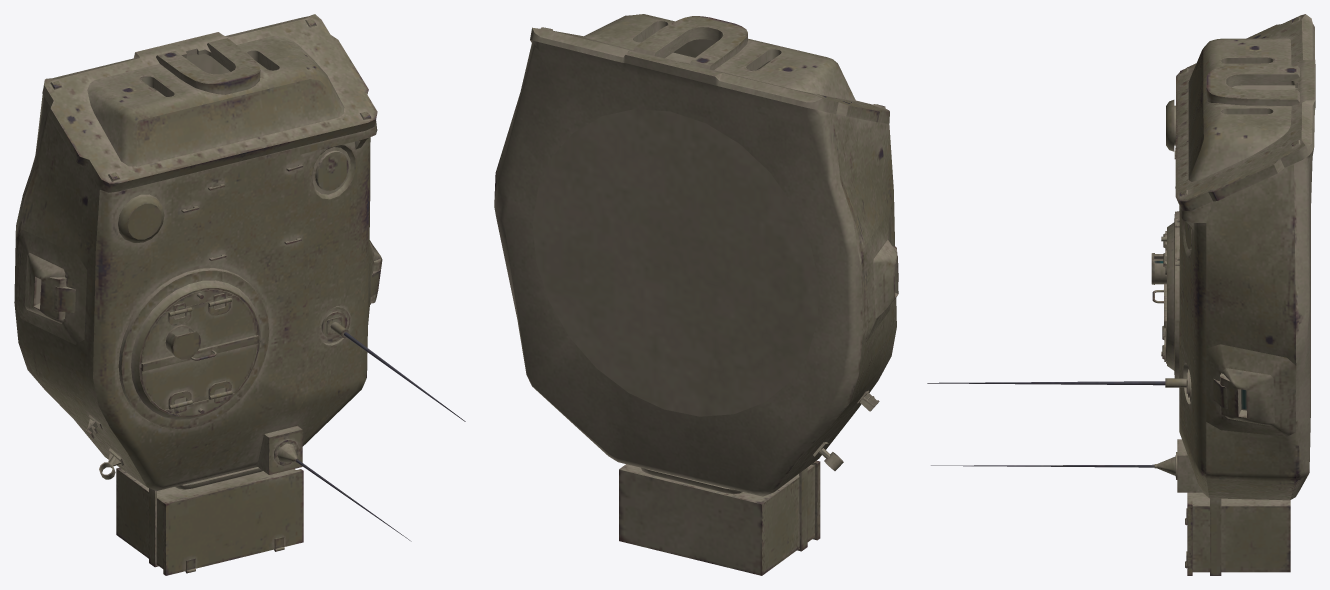
Rendered from Turret_01.glb.
3 views of the same model, side by side, from view 1: azimuth 30°, elevation 25°; view 2: azimuth 150°, elevation 25°; view 3: azimuth 270°, elevation 25° (orthographic). The views are drawn at different scales.
Visible parts, largest first — view 1: set_0_group_0; view 2: set_0_group_0; view 3: set_0_group_0.
Part boxes in pixels (box(x1,y1,x2,y2)): set_0_group_0: box(14, 14, 465, 575); set_0_group_0: box(494, 14, 898, 575); set_0_group_0: box(927, 14, 1315, 575).
Bounding box in the file's own units: 1.99 × 2.58 × 1.93.
Materials: 1 (1 with a texture image).
